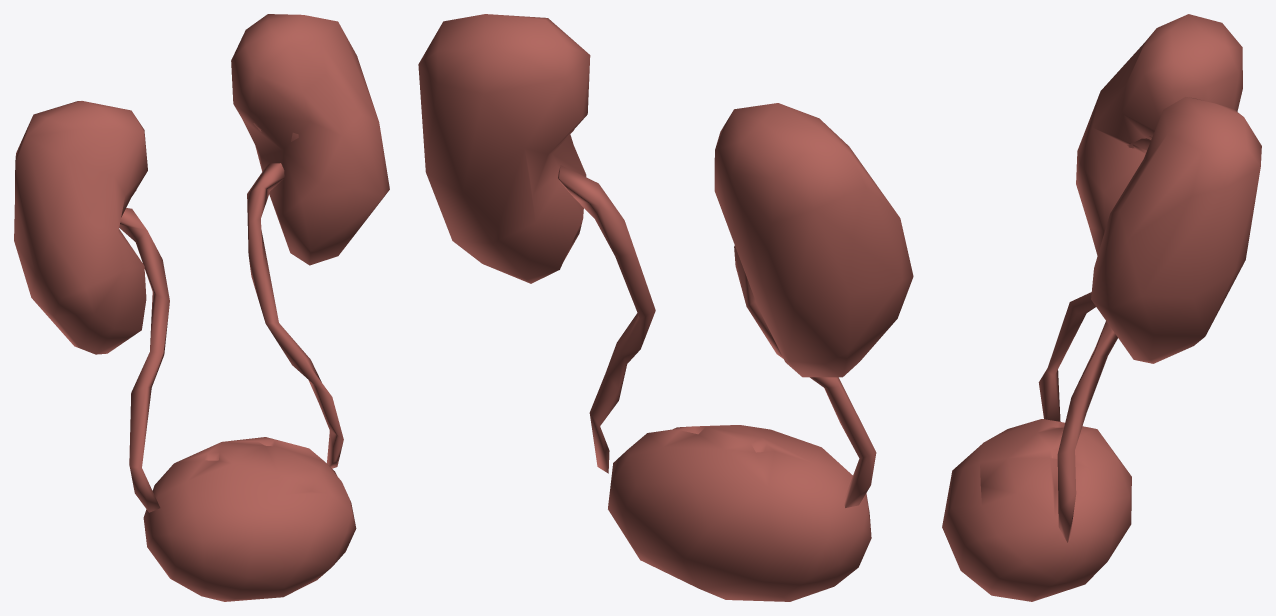
Rendered from pediatric_neonate_male.urinary.LOD3.glb.
The picture shows the model from 3 angles, left to right: view 1: azimuth 30°, elevation 25°; view 2: azimuth 150°, elevation 25°; view 3: azimuth 270°, elevation 25°; orthographic projection. The views are drawn at different scales.
Parts seen in each view (by area): view 1: PEDIATRIC.NEONATE.MALE.URINARY.KIDNEY_CORTEX.R, PEDIATRIC.NEONATE.MALE.URINARY.KIDNEY_CORTEX.L, PEDIATRIC.NEONATE.MALE.URINARY.URINARY_BLADDER_WALL, PEDIATRIC.NEONATE.MALE.URINARY.URETER.R, PEDIATRIC.NEONATE.MALE.URINARY.URETER.L; view 2: PEDIATRIC.NEONATE.MALE.URINARY.KIDNEY_CORTEX.R, PEDIATRIC.NEONATE.MALE.URINARY.KIDNEY_CORTEX.L, PEDIATRIC.NEONATE.MALE.URINARY.URINARY_BLADDER_WALL, PEDIATRIC.NEONATE.MALE.URINARY.URETER.L, PEDIATRIC.NEONATE.MALE.URINARY.URETER.R; view 3: PEDIATRIC.NEONATE.MALE.URINARY.KIDNEY_CORTEX.L, PEDIATRIC.NEONATE.MALE.URINARY.URINARY_BLADDER_WALL, PEDIATRIC.NEONATE.MALE.URINARY.KIDNEY_CORTEX.R, PEDIATRIC.NEONATE.MALE.URINARY.URETER.L, PEDIATRIC.NEONATE.MALE.URINARY.URETER.R.
Boxes of the visible parts, bbox=[...] form: PEDIATRIC.NEONATE.MALE.URINARY.KIDNEY_CORTEX.R: bbox=[14, 101, 147, 354]; PEDIATRIC.NEONATE.MALE.URINARY.KIDNEY_CORTEX.L: bbox=[231, 14, 389, 265]; PEDIATRIC.NEONATE.MALE.URINARY.URINARY_BLADDER_WALL: bbox=[143, 437, 356, 601]; PEDIATRIC.NEONATE.MALE.URINARY.URETER.R: bbox=[119, 208, 169, 512]; PEDIATRIC.NEONATE.MALE.URINARY.URETER.L: bbox=[247, 163, 343, 468]; PEDIATRIC.NEONATE.MALE.URINARY.KIDNEY_CORTEX.R: bbox=[714, 103, 913, 377]; PEDIATRIC.NEONATE.MALE.URINARY.KIDNEY_CORTEX.L: bbox=[418, 14, 590, 283]; PEDIATRIC.NEONATE.MALE.URINARY.URINARY_BLADDER_WALL: bbox=[608, 425, 871, 601]; PEDIATRIC.NEONATE.MALE.URINARY.URETER.L: bbox=[557, 165, 655, 473]; PEDIATRIC.NEONATE.MALE.URINARY.URETER.R: bbox=[734, 245, 876, 507]; PEDIATRIC.NEONATE.MALE.URINARY.KIDNEY_CORTEX.L: bbox=[1091, 97, 1261, 363]; PEDIATRIC.NEONATE.MALE.URINARY.URINARY_BLADDER_WALL: bbox=[942, 419, 1131, 601]; PEDIATRIC.NEONATE.MALE.URINARY.KIDNEY_CORTEX.R: bbox=[1076, 14, 1242, 255]; PEDIATRIC.NEONATE.MALE.URINARY.URETER.L: bbox=[1057, 321, 1117, 542]; PEDIATRIC.NEONATE.MALE.URINARY.URETER.R: bbox=[1038, 292, 1095, 421].
Size of the model in its own units: 0.0727 by 0.0956 by 0.0517.
